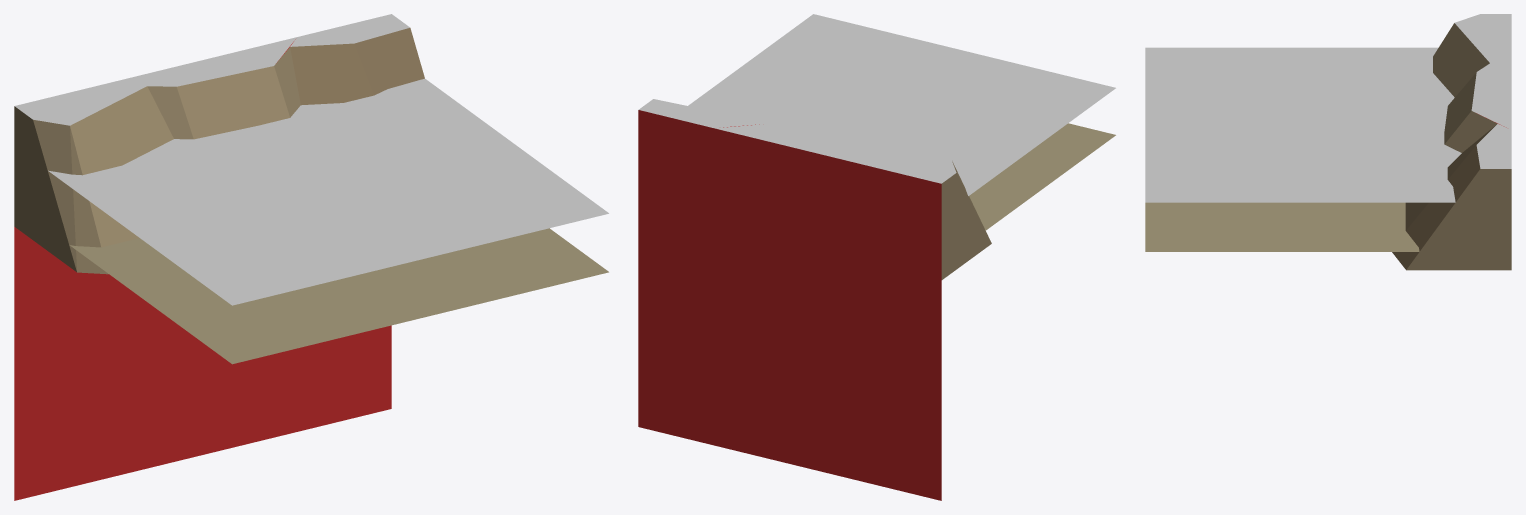
The model's file is Model_Tile_River_3WLTR_LRW.fbx.
3 views of the same model, side by side, from view 1: azimuth 30°, elevation 25°; view 2: azimuth 150°, elevation 25°; view 3: azimuth 270°, elevation 25° (orthographic). The views are drawn at different scales.
Visible parts, largest first — view 1: Model_Frost_Rivers8; view 2: Model_Frost_Rivers8; view 3: Model_Frost_Rivers8.
Boxes of the visible parts, x1,y1,x2,y2 form: Model_Frost_Rivers8: [14, 14, 608, 500]; Model_Frost_Rivers8: [638, 14, 1115, 500]; Model_Frost_Rivers8: [1145, 14, 1511, 270].
Bounding box in the file's own units: 200 × 200 × 200.
